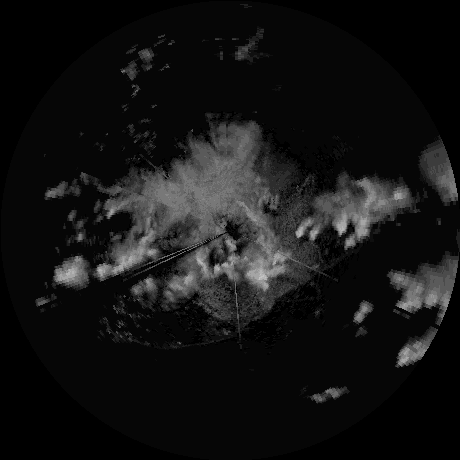frontgust: (102, 306, 240, 349)
